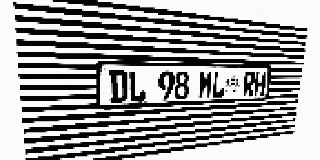8: (174, 71, 190, 100)
9: (158, 71, 175, 101)
D: (109, 70, 128, 103)
H: (254, 72, 266, 96)
L: (128, 70, 146, 102), (212, 71, 226, 98)
M: (198, 71, 213, 99)
R: (243, 72, 256, 97)
